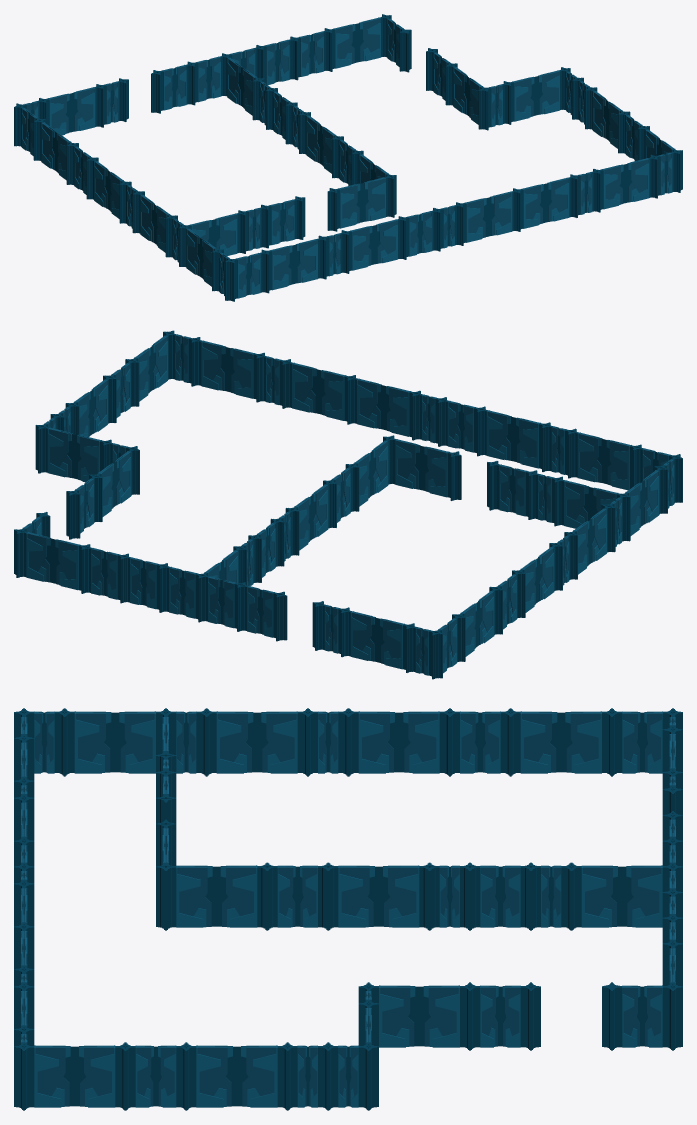
File: levela.fbx
The picture shows the model from 3 angles, top to bottom: view 1: azimuth 30°, elevation 25°; view 2: azimuth 150°, elevation 25°; view 3: azimuth 270°, elevation 25°; orthographic projection. The views are drawn at different scales.
Parts seen in each view (by area): view 1: LevelA; view 2: LevelA; view 3: LevelA.
Part boxes in pixels (left/top/right/bottom): LevelA: left=14, top=14, right=682, bottom=301; LevelA: left=14, top=330, right=682, bottom=679; LevelA: left=14, top=708, right=682, bottom=1110.
Size of the model in its own units: 7989 by 649 by 6591.
